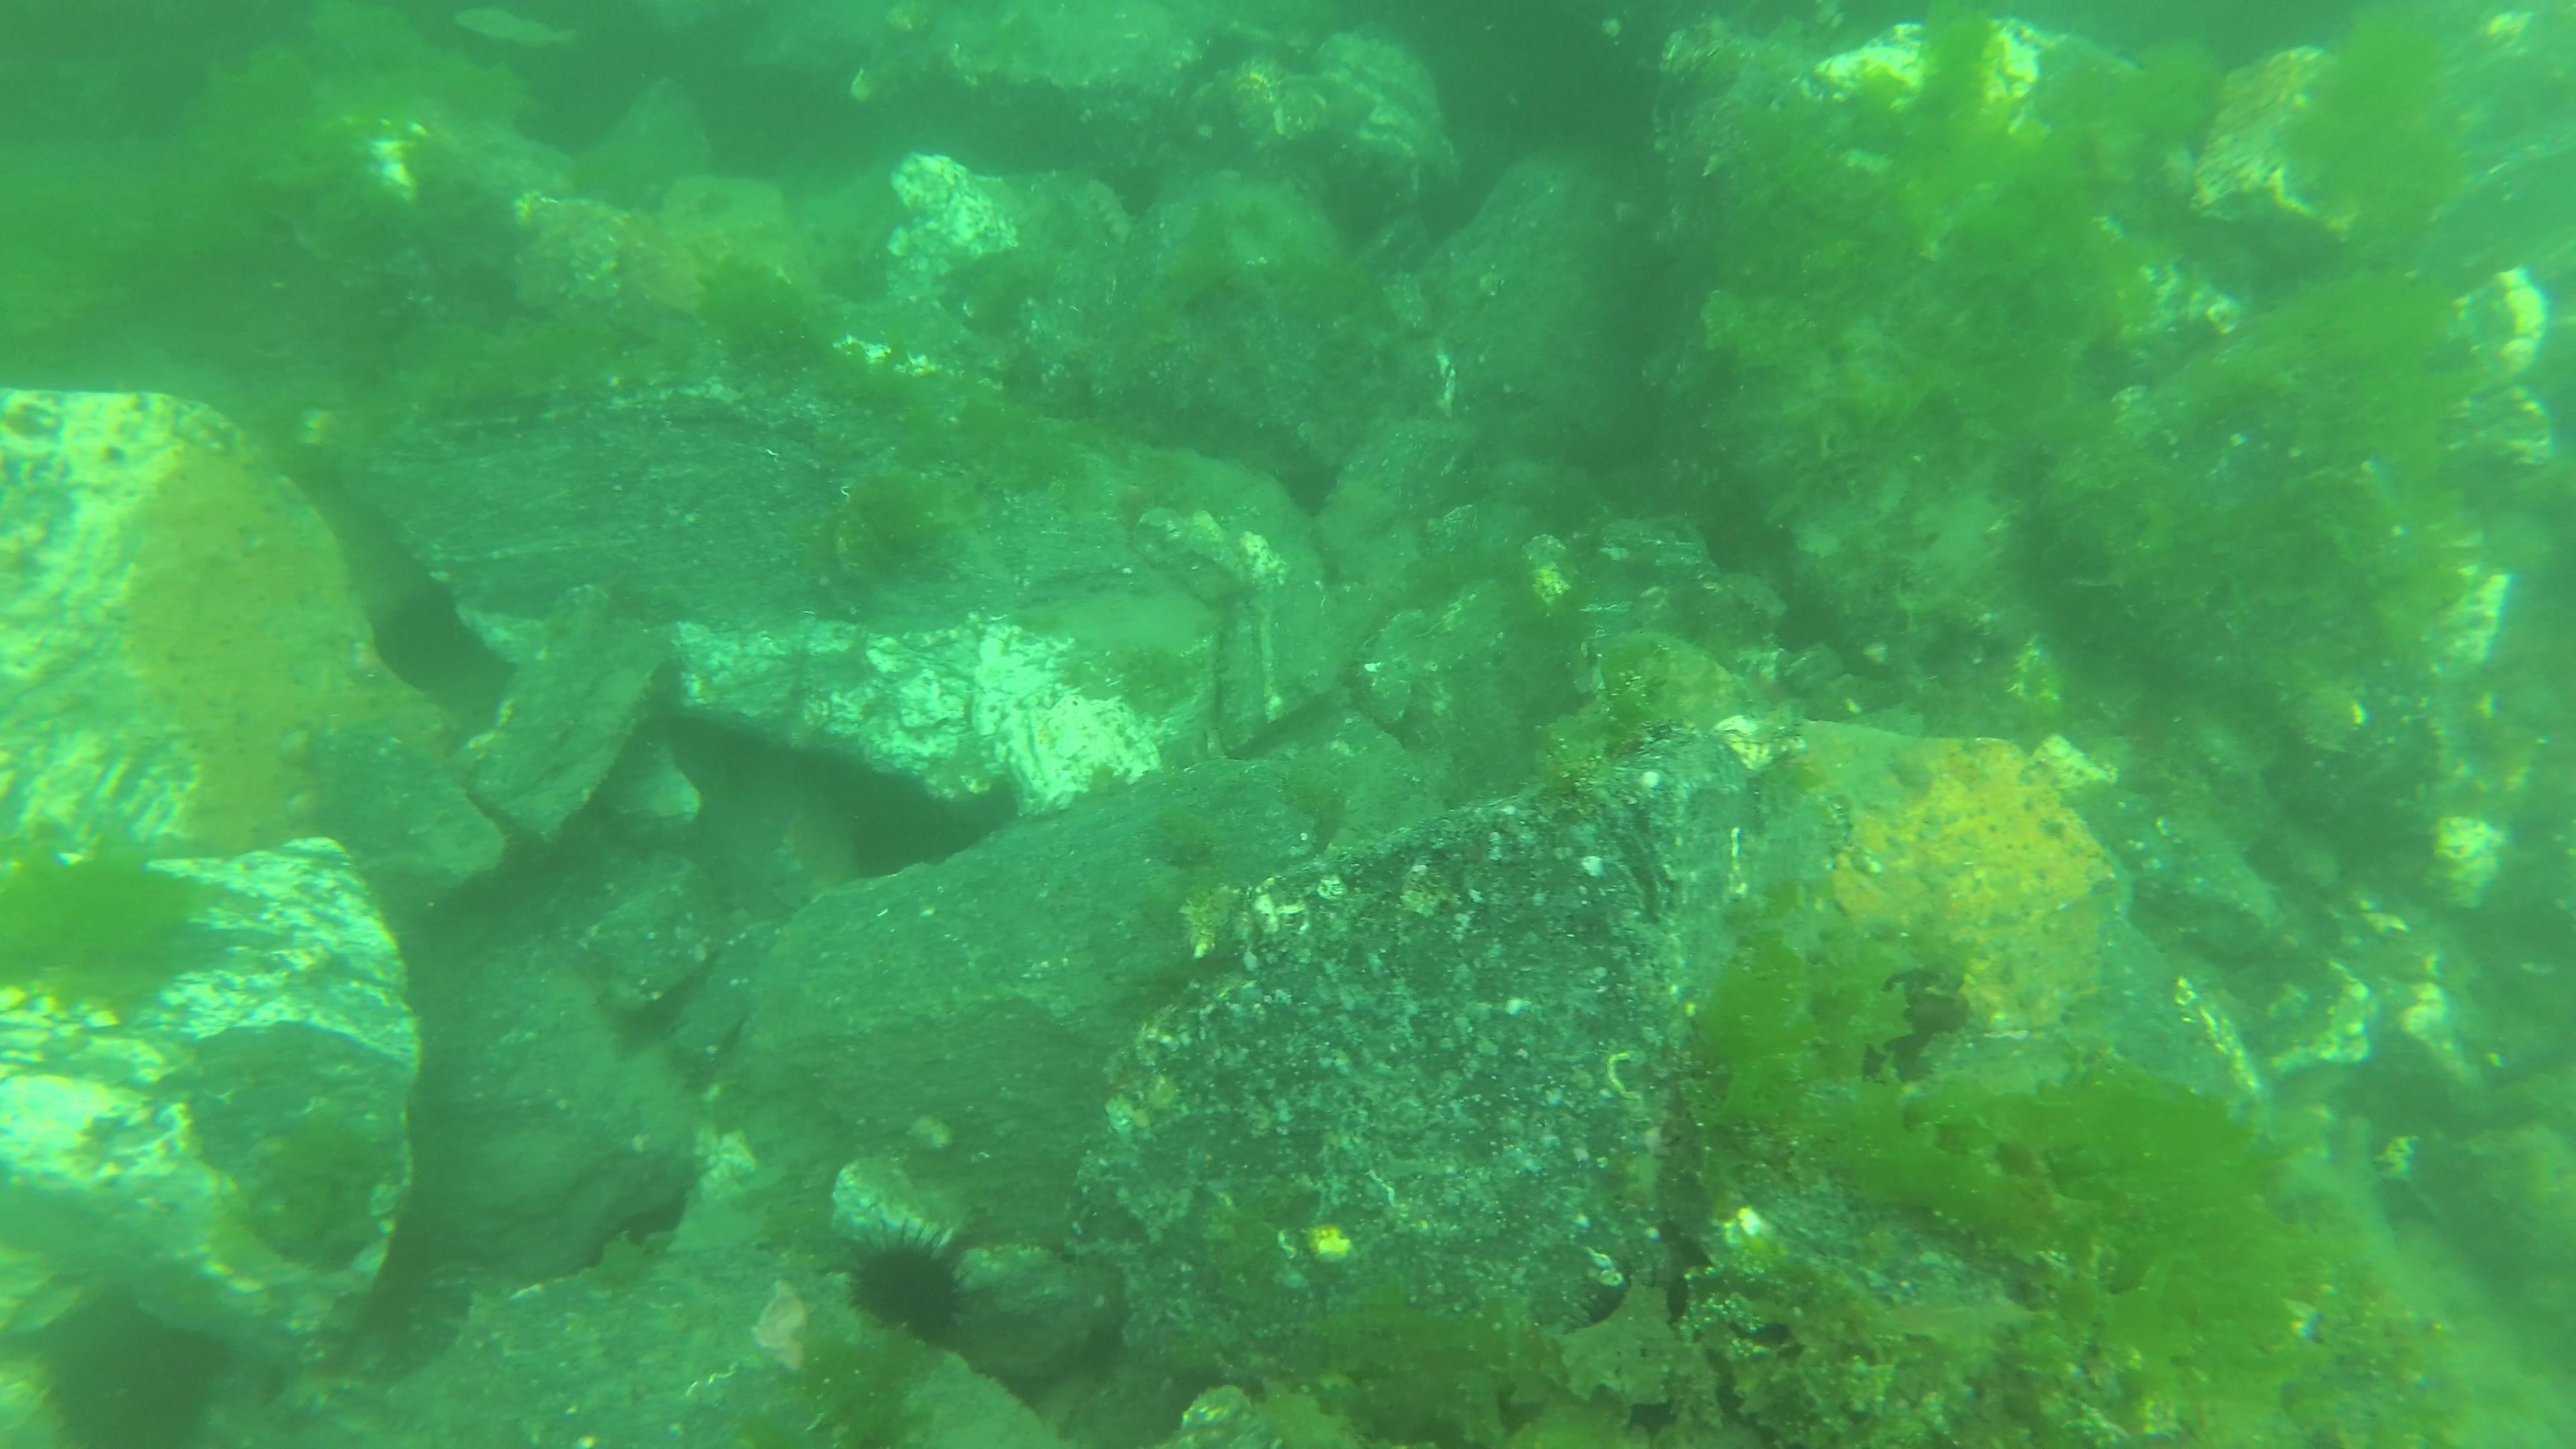echinus: (840, 1221, 978, 1350), (1776, 579, 1851, 658)
